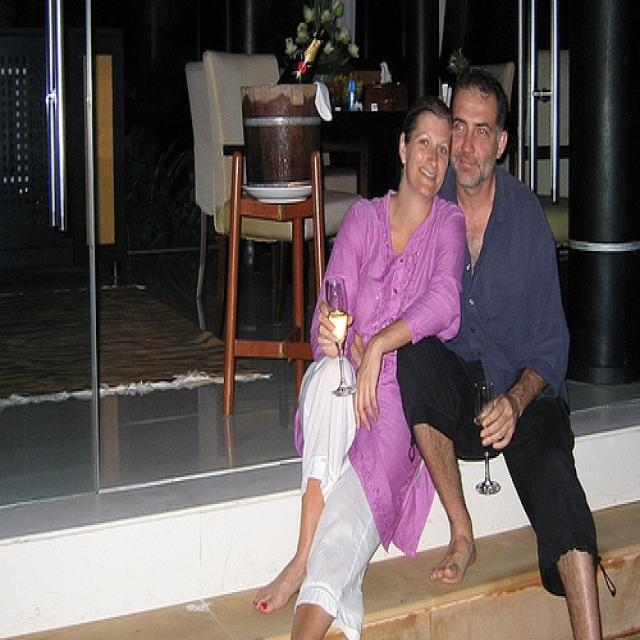bottle: (280, 25, 328, 86)
chair: (200, 38, 361, 343), (182, 58, 218, 308)
pottedplant: (284, 2, 360, 107)
